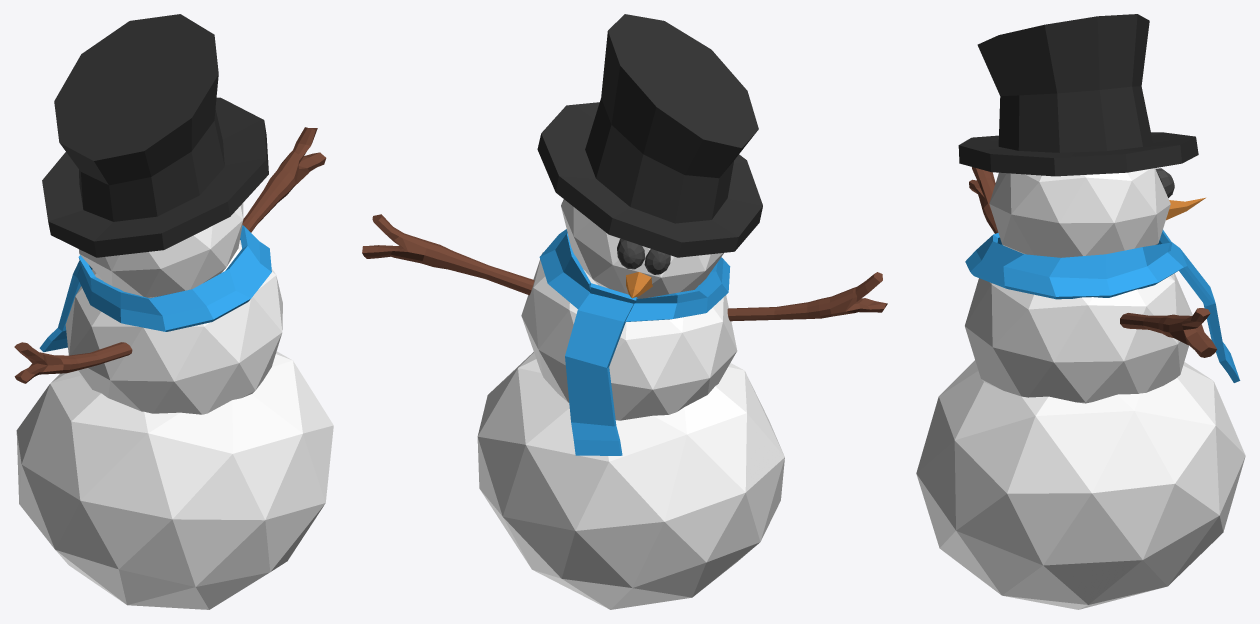
File: Snowman 1.fbx
3 renders of one model, left to right at view 1: azimuth 30°, elevation 25°; view 2: azimuth 150°, elevation 25°; view 3: azimuth 270°, elevation 25°, orthographic. The views are drawn at different scales.
Parts seen in each view (by area): view 1: head.003, top_hat.001, head.002, scarf.001, head.001, right_arm.001, left_arm.001; view 2: head.003, top_hat.001, head.002, scarf.001, head.001, right_arm.001, left_arm.001, eyes.001; view 3: head.003, top_hat.001, head.002, head.001, scarf.001, right_arm.001, left_arm.001.
Boxes of the visible parts, left/top/right/bottom form: head.003: left=16, top=351, right=333, bottom=609; top_hat.001: left=42, top=14, right=268, bottom=257; head.002: left=65, top=240, right=282, bottom=414; scarf.001: left=39, top=225, right=271, bottom=352; head.001: left=78, top=203, right=243, bottom=298; right_arm.001: left=242, top=127, right=326, bottom=232; left_arm.001: left=14, top=342, right=132, bottom=383; head.003: left=477, top=352, right=784, bottom=609; top_hat.001: left=537, top=14, right=762, bottom=257; head.002: left=521, top=252, right=737, bottom=420; scarf.001: left=539, top=229, right=730, bottom=455; head.001: left=561, top=199, right=723, bottom=298; right_arm.001: left=362, top=214, right=534, bottom=295; left_arm.001: left=727, top=272, right=887, bottom=321; eyes.001: left=617, top=238, right=670, bottom=274; head.003: left=916, top=360, right=1245, bottom=609; top_hat.001: left=958, top=14, right=1198, bottom=176; head.002: left=965, top=273, right=1192, bottom=403; head.001: left=989, top=168, right=1170, bottom=257; scarf.001: left=965, top=230, right=1240, bottom=382; right_arm.001: left=1120, top=308, right=1217, bottom=357; left_arm.001: left=969, top=167, right=998, bottom=233.
Bounding box in the file's own units: 296 × 381 × 195.
